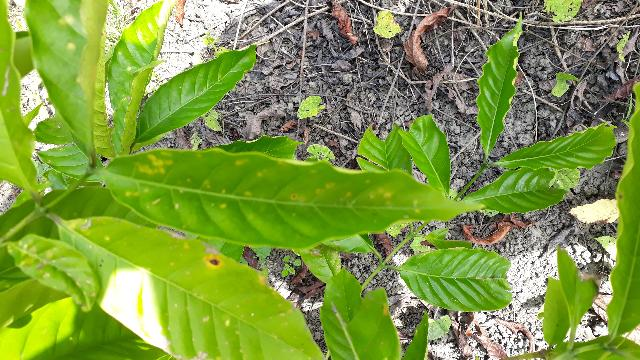rust_level_1: (98, 148, 484, 251)
